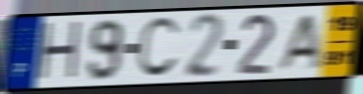2: (182, 9, 226, 83), (236, 12, 276, 76)
9: (83, 17, 126, 83)
A: (272, 12, 325, 73)
C: (134, 15, 183, 81)
H: (35, 19, 84, 85)
